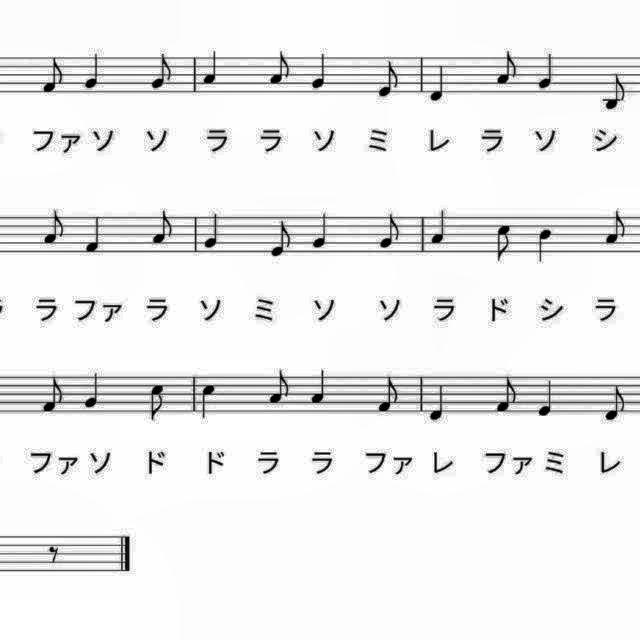Eighth-note: (36, 52, 68, 98), (144, 50, 176, 94), (264, 46, 296, 90), (598, 383, 630, 427), (600, 72, 632, 116), (36, 372, 68, 416), (267, 216, 297, 262), (374, 210, 406, 253), (491, 372, 522, 416), (371, 57, 402, 101), (38, 207, 70, 249), (374, 371, 404, 415), (264, 368, 296, 408), (602, 209, 632, 251), (493, 48, 523, 90), (149, 208, 179, 250), (491, 220, 517, 268), (144, 381, 170, 427)
Eighth-rest: (43, 540, 65, 568)
Quarter-note: (426, 382, 454, 426), (308, 210, 336, 254), (426, 64, 454, 108), (80, 368, 108, 412), (306, 49, 334, 92), (82, 212, 108, 258), (200, 210, 226, 254), (533, 375, 559, 419), (533, 50, 559, 94), (82, 48, 108, 92), (196, 380, 222, 424), (307, 366, 333, 408), (532, 224, 556, 268), (428, 208, 452, 250), (200, 48, 224, 88)
